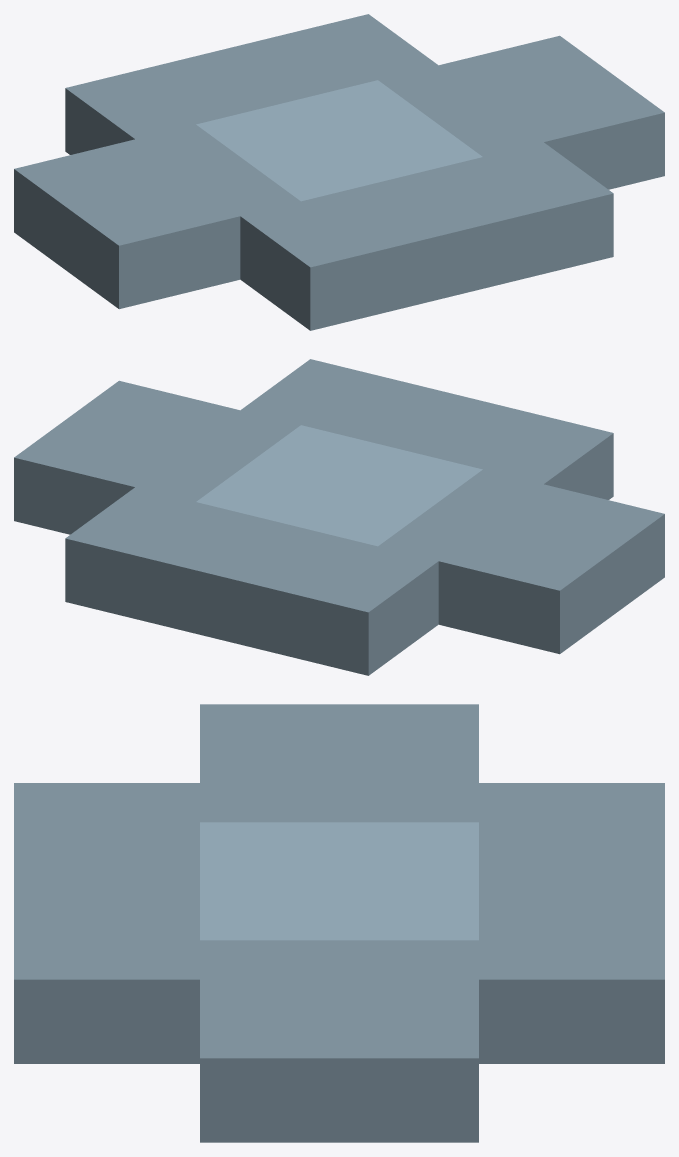
The model's file is charco_agua_01.glb.
3 renders of one model, top to bottom at view 1: azimuth 30°, elevation 25°; view 2: azimuth 150°, elevation 25°; view 3: azimuth 270°, elevation 25°, orthographic. The views are drawn at different scales.
Visible parts, largest first — view 1: charco_agua_01; view 2: charco_agua_01; view 3: charco_agua_01.
Part boxes in pixels (x1,y1,x2,y2): charco_agua_01: (14,14,664,330); charco_agua_01: (14,359,664,675); charco_agua_01: (14,704,664,1142).
Size of the model in its own units: 0.9 by 0.1 by 0.7.
